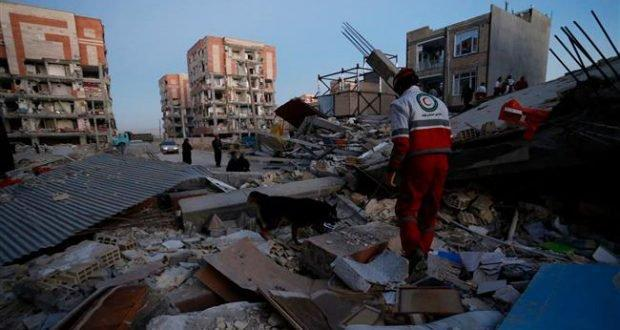destroyed: (388, 15, 576, 132), (154, 26, 290, 172), (3, 15, 126, 172)
